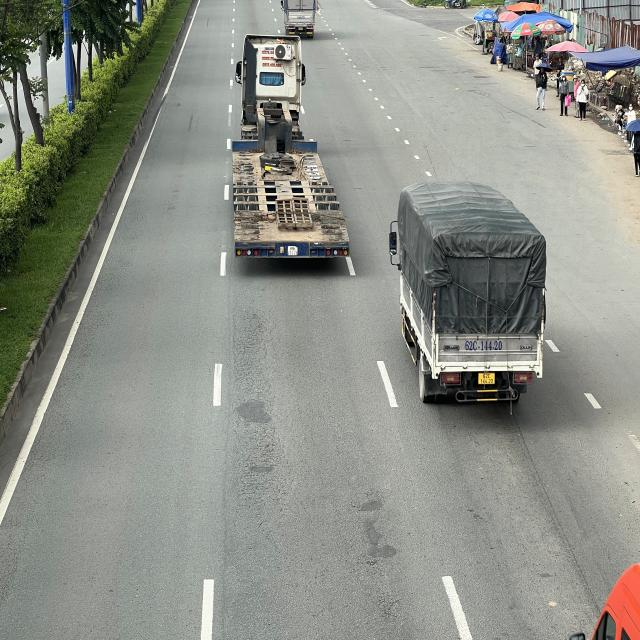container: (231, 34, 352, 261)
truck: (391, 182, 547, 401), (282, 0, 316, 34)
